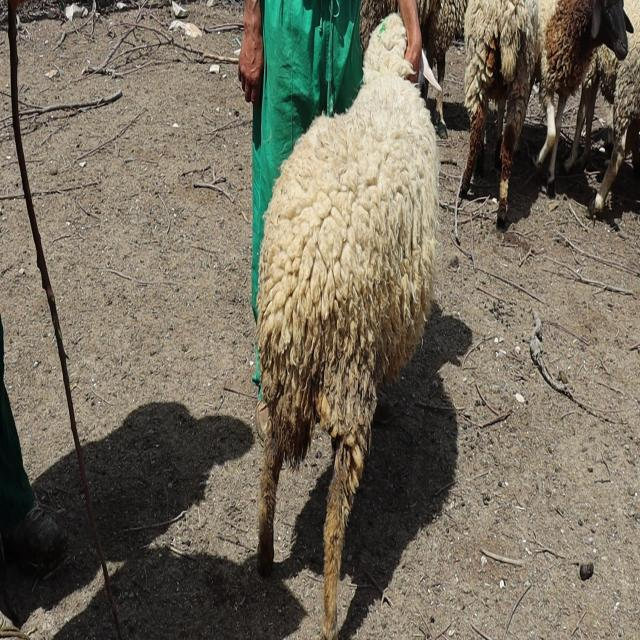Score_2: (256, 13, 439, 639)
